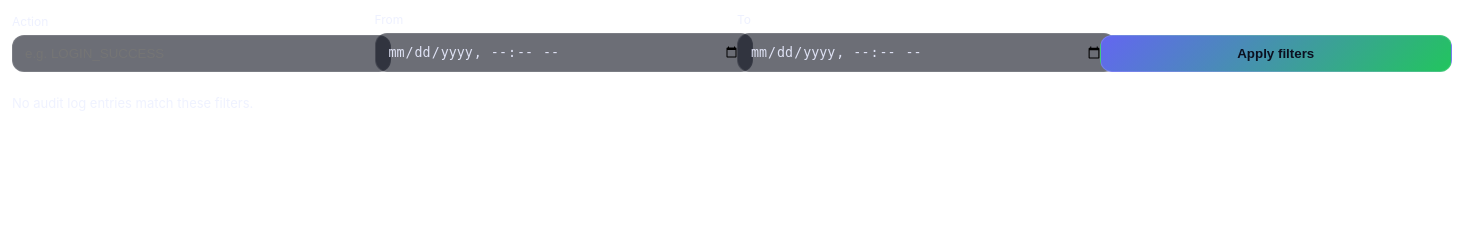
Scenario: shows an empty state, then rows after filtering by action
Type "LOGIN_SUCCESS" into the field labelled "Action" at (201, 54), box [12, 35, 390, 72]
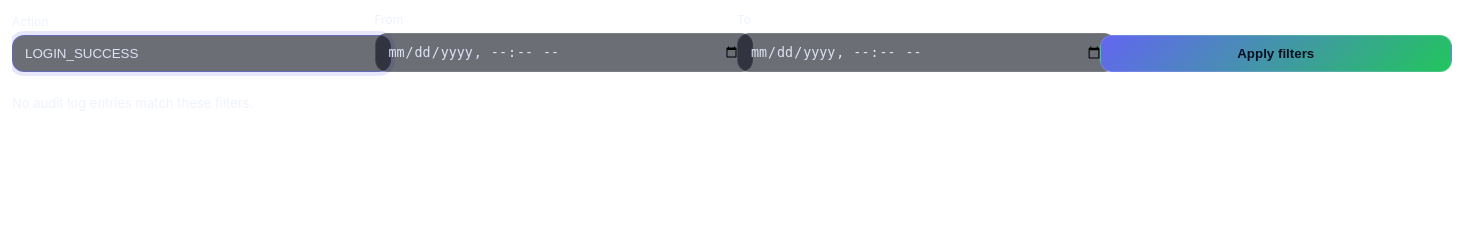
Click the button "Apply filters" at (1276, 54), box [1100, 35, 1452, 72]
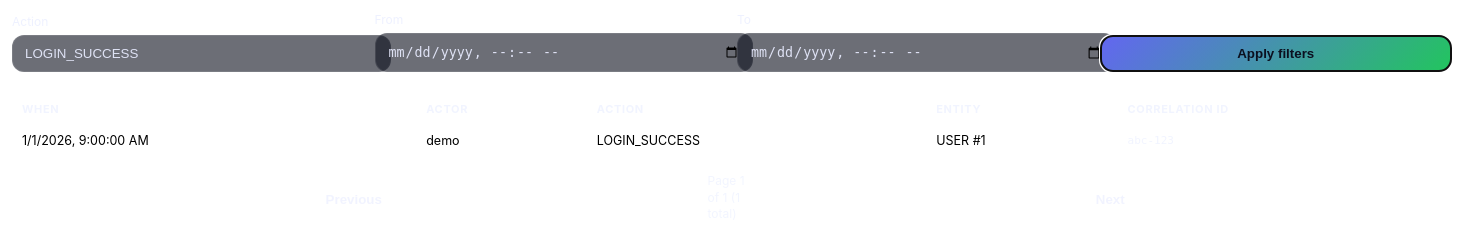
Result: the text "LOGIN_SUCCESS" is shown at [587, 125, 926, 157]
